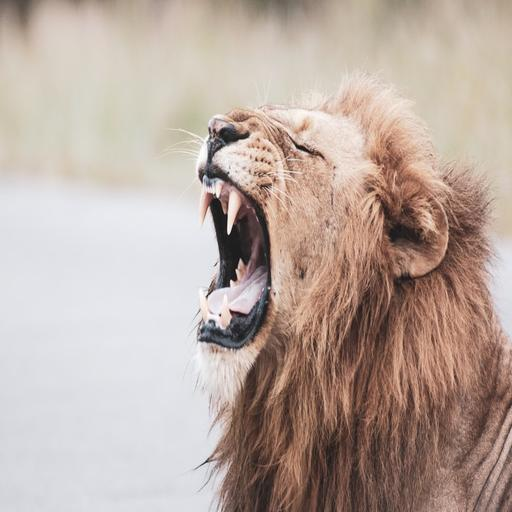Lion: (180, 66, 512, 512)
